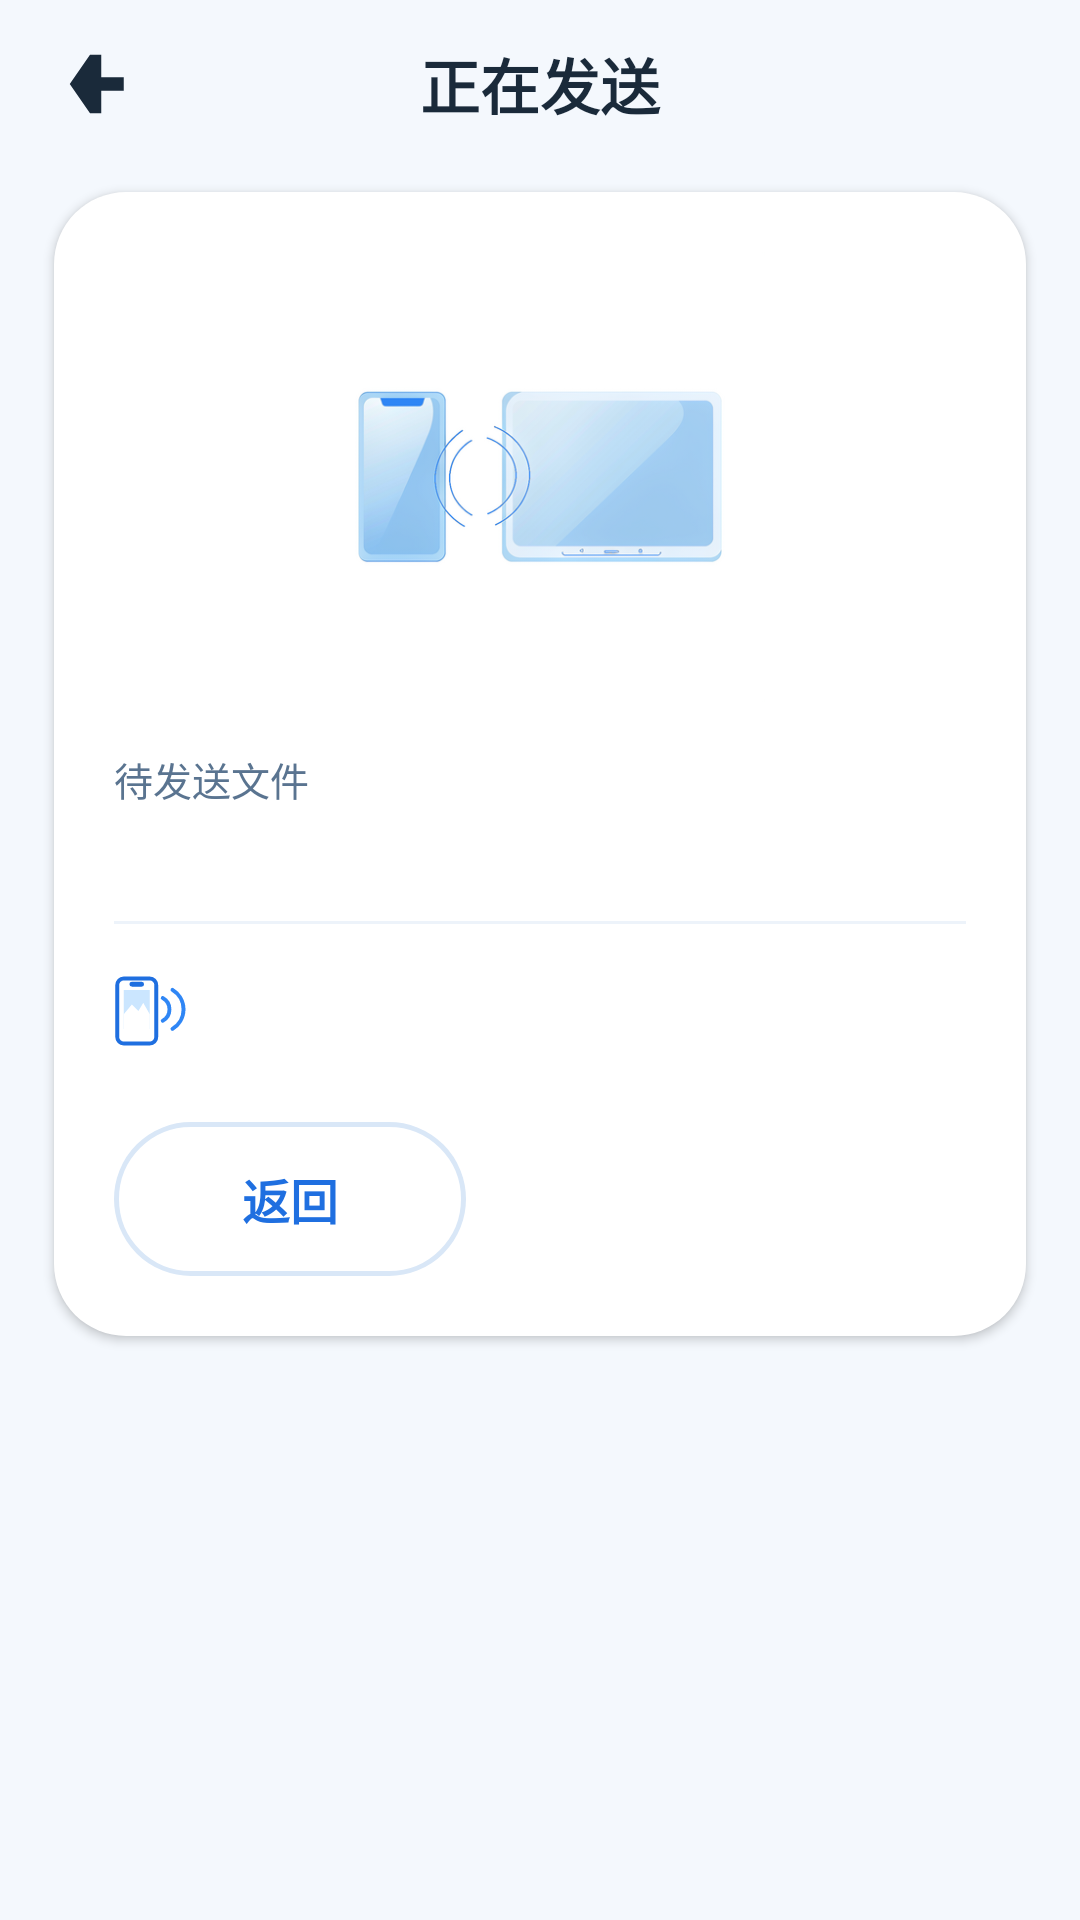

Named icons in this screenshot (1080px x 1920px) and their centers, [x,y]:
back: [97,84]
peer phone: [150,1011]
